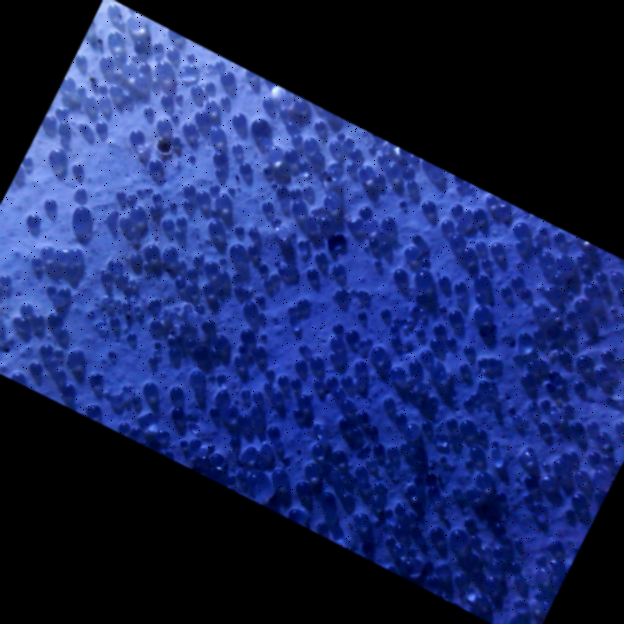GrassBeadSeg: (129, 23, 569, 471), (72, 204, 588, 504), (208, 97, 594, 472), (217, 69, 580, 433), (24, 162, 586, 392), (78, 255, 589, 481), (49, 146, 458, 427), (150, 189, 623, 431), (69, 95, 623, 297), (203, 80, 478, 482), (62, 74, 455, 347), (57, 119, 336, 502), (177, 63, 445, 442), (230, 112, 495, 486), (174, 344, 550, 604), (108, 218, 462, 494), (129, 215, 478, 490), (73, 85, 488, 302), (249, 106, 539, 415), (151, 198, 594, 394), (301, 140, 601, 428), (5, 167, 435, 362), (244, 160, 495, 487), (184, 50, 488, 311), (186, 281, 534, 503), (270, 251, 588, 484), (101, 273, 514, 452), (40, 244, 577, 380), (174, 90, 457, 344), (142, 104, 419, 359), (127, 239, 394, 503), (118, 171, 571, 324), (278, 263, 598, 479), (355, 146, 599, 429), (61, 151, 387, 362), (76, 121, 400, 333), (147, 156, 592, 308), (313, 118, 476, 527), (163, 181, 407, 442), (115, 188, 548, 330), (122, 304, 440, 494), (30, 254, 290, 484), (43, 196, 447, 344), (188, 93, 397, 376), (187, 196, 494, 384), (213, 116, 369, 478), (0, 58, 225, 294), (289, 130, 543, 339), (297, 146, 550, 354), (108, 192, 498, 324), (146, 144, 376, 365), (62, 119, 379, 279), (159, 97, 465, 255), (407, 176, 559, 489), (148, 357, 479, 498), (129, 214, 579, 317), (25, 121, 226, 348), (170, 112, 342, 365), (173, 253, 472, 397), (108, 113, 285, 356), (235, 165, 447, 366), (0, 165, 487, 249), (46, 166, 356, 294), (96, 119, 346, 274), (126, 15, 277, 271), (106, 31, 369, 177), (107, 129, 369, 272), (147, 185, 302, 425), (276, 224, 447, 440), (52, 132, 330, 263), (202, 260, 431, 418), (110, 208, 374, 345), (138, 61, 239, 418), (71, 161, 373, 279), (233, 203, 524, 319), (49, 310, 346, 423), (39, 93, 227, 266), (275, 183, 574, 285), (25, 53, 139, 314), (301, 135, 423, 374), (303, 198, 408, 475), (231, 141, 317, 477), (51, 111, 339, 209), (193, 108, 302, 357), (75, 52, 180, 306), (100, 216, 238, 403), (142, 118, 328, 256), (233, 294, 462, 403), (94, 121, 183, 397), (130, 205, 435, 285), (465, 305, 619, 463), (131, 188, 561, 242), (190, 165, 418, 265), (127, 127, 229, 347), (221, 163, 409, 281), (293, 414, 531, 502), (121, 299, 304, 413), (99, 83, 203, 280), (131, 277, 431, 345), (462, 343, 587, 505), (468, 184, 568, 386), (0, 272, 157, 394), (370, 165, 523, 285), (213, 191, 502, 254), (200, 256, 429, 332), (69, 347, 609, 379), (63, 169, 226, 274), (117, 236, 420, 291), (420, 325, 576, 430), (147, 160, 305, 262), (511, 220, 611, 377), (387, 358, 547, 455), (66, 229, 565, 260), (41, 93, 195, 190), (474, 304, 585, 432), (353, 310, 537, 385), (202, 79, 302, 213), (411, 368, 597, 440), (133, 63, 180, 340), (68, 327, 362, 363), (385, 506, 560, 565), (167, 334, 485, 366), (452, 240, 505, 429), (464, 449, 609, 507), (457, 433, 576, 499), (337, 131, 432, 211), (242, 198, 305, 316), (21, 153, 73, 295), (232, 455, 326, 529), (323, 192, 421, 257), (519, 375, 610, 444), (397, 495, 505, 553), (97, 25, 172, 104), (476, 308, 577, 366), (54, 367, 141, 432), (469, 533, 544, 605), (274, 204, 362, 262), (290, 230, 366, 297), (92, 40, 179, 98), (271, 361, 351, 423), (387, 525, 467, 583), (455, 182, 506, 272), (10, 301, 67, 381), (207, 218, 277, 283), (297, 457, 391, 505), (207, 442, 300, 490), (475, 545, 546, 606), (243, 422, 345, 462), (320, 168, 368, 247), (276, 305, 322, 387), (478, 379, 564, 422), (433, 188, 484, 260), (156, 115, 228, 165), (286, 119, 351, 172), (552, 270, 623, 314), (309, 351, 350, 427), (491, 397, 556, 442), (241, 298, 392, 317), (372, 422, 446, 460), (183, 258, 225, 320), (228, 203, 274, 259), (134, 303, 190, 349), (478, 385, 548, 421), (355, 483, 416, 524), (239, 293, 294, 338), (383, 388, 436, 434), (114, 61, 173, 101), (176, 255, 240, 290), (47, 310, 162, 329), (205, 343, 246, 396), (209, 380, 271, 414), (331, 358, 367, 416), (463, 390, 562, 411), (222, 424, 279, 460), (512, 239, 529, 357), (131, 393, 191, 426), (302, 216, 363, 247), (239, 337, 269, 400), (302, 160, 359, 192), (162, 205, 190, 268), (23, 342, 64, 382), (420, 369, 469, 402), (537, 249, 570, 297), (100, 3, 124, 66), (120, 200, 159, 236), (184, 336, 214, 379), (154, 321, 196, 351), (208, 111, 249, 140), (520, 224, 550, 263), (459, 418, 495, 450), (180, 436, 220, 464), (351, 410, 376, 450), (267, 143, 307, 166), (131, 413, 165, 438), (392, 316, 424, 341), (149, 198, 192, 213), (216, 268, 241, 292), (287, 295, 309, 311), (127, 186, 150, 199), (595, 466, 610, 482), (391, 336, 397, 343)
